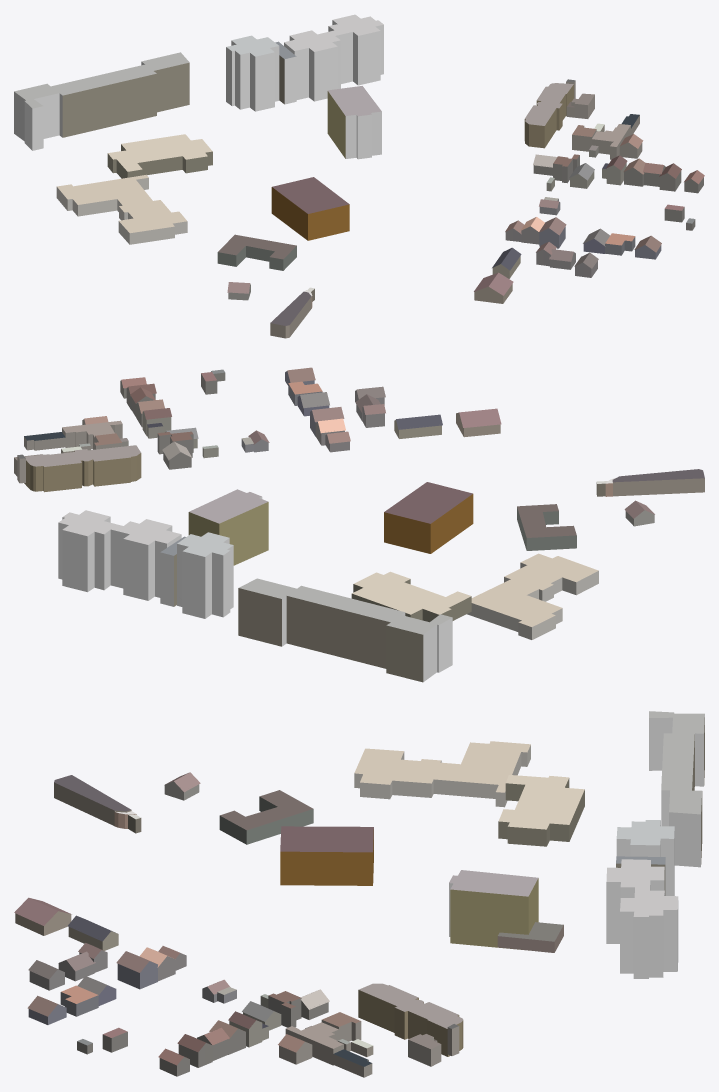
The picture shows the model from 3 angles, top to bottom: view 1: azimuth 30°, elevation 25°; view 2: azimuth 150°, elevation 25°; view 3: azimuth 270°, elevation 25°; orthographic projection. The views are drawn at different scales.
Visible parts, largest first — view 1: tuile; view 2: tuile; view 3: tuile.
Part boxes in pixels (x1,y1,x2,y2): tuile: [14, 14, 704, 338]; tuile: [14, 367, 704, 682]; tuile: [14, 711, 704, 1077].
Size of the model in its own units: 269 by 36.5 by 246.
